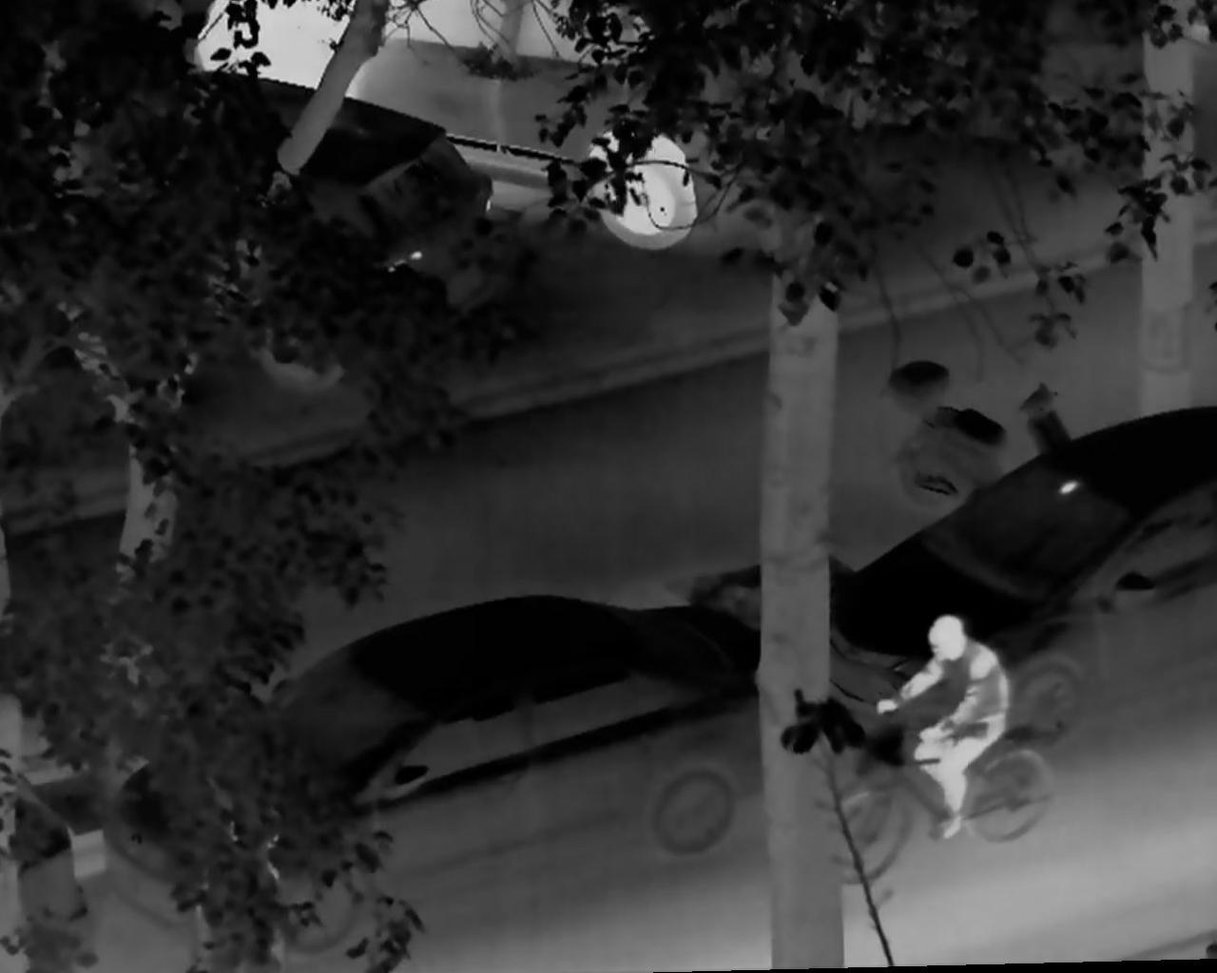person: (872, 609, 1013, 849)
